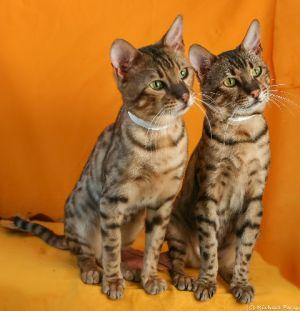bengal: (110, 9, 205, 123)
